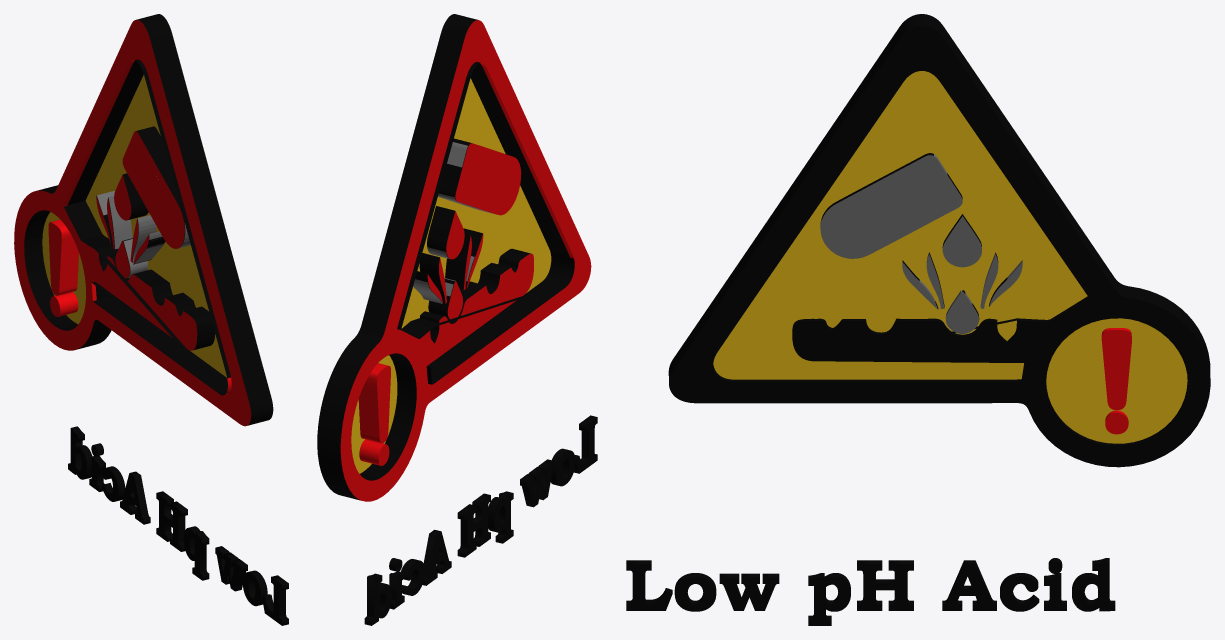
Rendered from 3.Acid.fbx.
The picture shows the model from 3 angles, left to right: view 1: azimuth 30°, elevation 25°; view 2: azimuth 150°, elevation 25°; view 3: azimuth 270°, elevation 25°; orthographic projection. The views are drawn at different scales.
Visible parts, largest first — view 1: Curve.001, Text.002; view 2: Curve.001, Text.002; view 3: Curve.001, Text.002.
Part boxes in pixels (left/top/right/bottom): Curve.001: left=14, top=14, right=273, bottom=426; Text.002: left=68, top=426, right=288, bottom=625; Curve.001: left=317, top=14, right=591, bottom=501; Text.002: left=364, top=415, right=597, bottom=625; Curve.001: left=668, top=14, right=1210, bottom=467; Text.002: left=626, top=558, right=1115, bottom=625.
Bounding box in the file's own units: 5.53 × 106 × 92.84.
